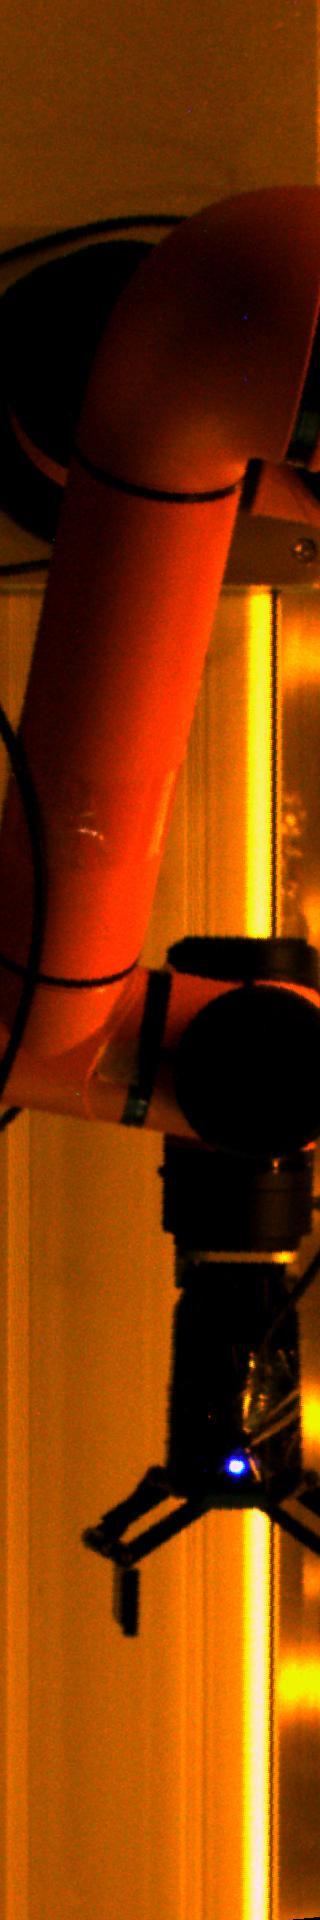keyPoint_1: (221, 1449, 251, 1478)
